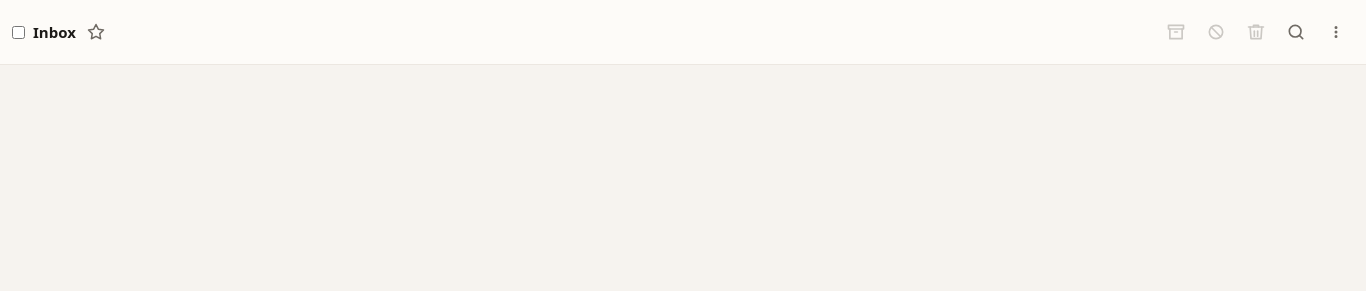
Test: SelectionToolbar › greys the selection-bound kebab items with no selection
Click the button named "More actions".
click(1336, 32)  # box [1318,14,1354,50]
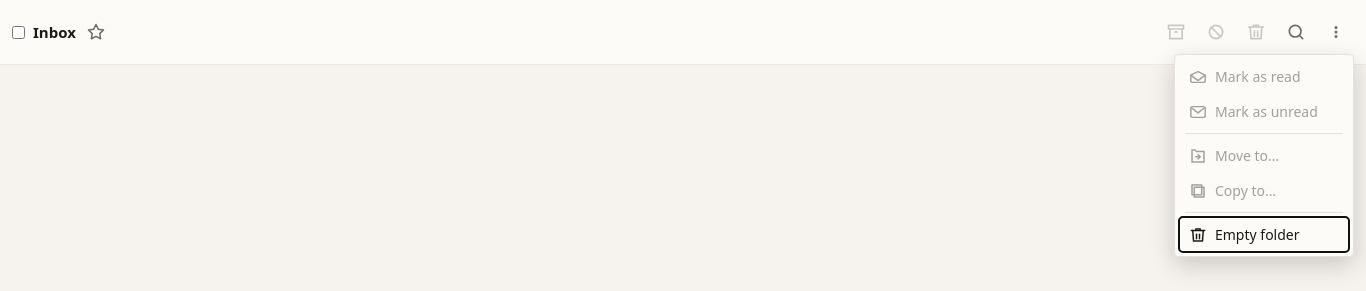
expect the menu item "Mark as read" is disabled: met, box [1179,59,1349,94]
expect the menu item "Copy to…" is disabled: met, box [1179,173,1349,208]
